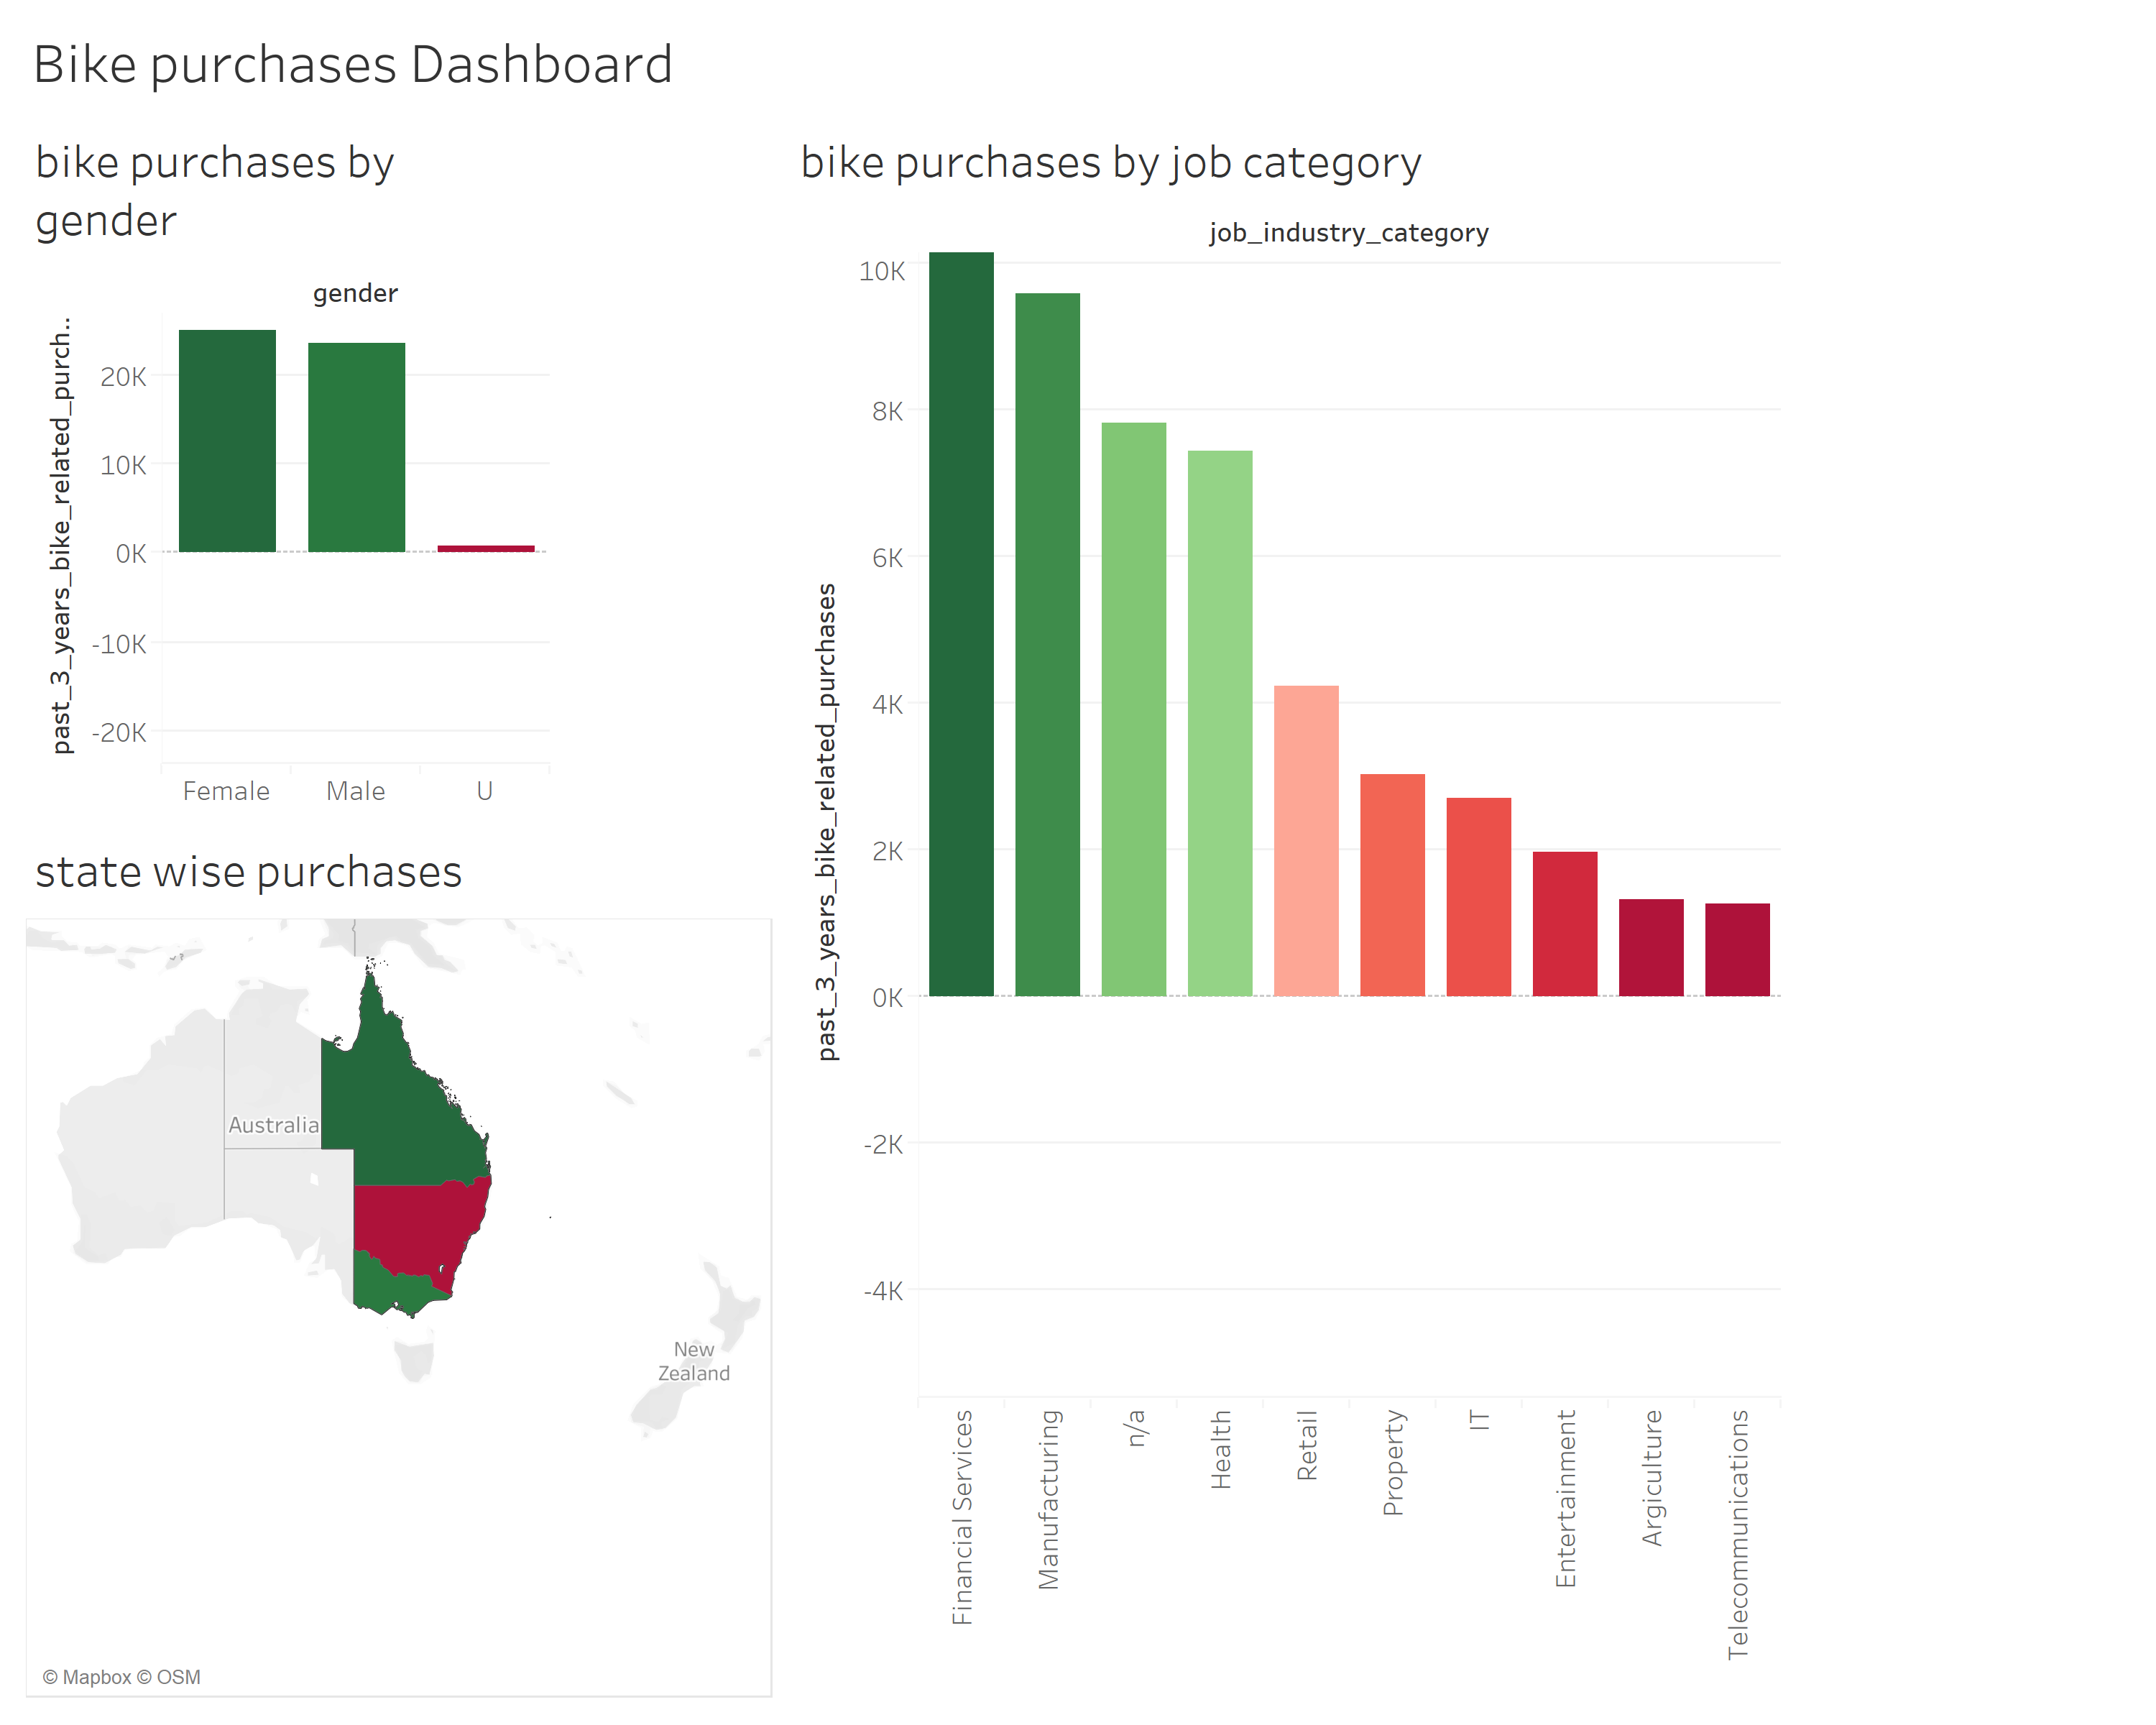

The dashboard page shown, as its layout file describes it:
{"tool":"tableau","page":{"name":"Bike purchases Dashboard ","canvas":[1000,800],"ordinal":0},"visuals":[{"type":"worksheet","box":[0,0,1000,800]},{"type":"worksheet","param":"vert","box":[8,8,984,784]},{"type":"worksheet","box":[8,8,984,42]},{"type":"worksheet","param":"vert","box":[8,50,984,742]},{"type":"worksheet","param":"horz","box":[8,50,984,742]},{"type":"worksheet","param":"horz","box":[8,50,984,742]},{"type":"worksheet","param":"horz","box":[8,50,984,742]},{"type":"worksheet","param":"horz","box":[8,50,984,742]},{"type":"worksheet","box":[8,50,984,742]},{"type":"worksheet","title":"bike purchase by gender","mark":"Automatic","rows":["past_3_years_bike_related_purchases"],"cols":["gender"],"box":[8,50,355,329.3]},{"type":"worksheet","title":"bike purchases by job category","mark":"Automatic","rows":["past_3_years_bike_related_purchases"],"cols":["job_industry_category"],"box":[363,50,629,742]},{"type":"worksheet","title":"state wise purchases","mark":"Automatic","box":[8,379.3,355,412.7]}]}

Visuals, with their boxes in screenshot pixels (x1, y1, x2, y2), scaled from the page's 1000x800 canvas onto the 2156x1725 screenshot:
worksheet: (left=0, top=0, right=2155, bottom=1724)
worksheet: (left=17, top=17, right=2139, bottom=1708)
worksheet: (left=17, top=17, right=2139, bottom=108)
worksheet: (left=17, top=108, right=2139, bottom=1708)
worksheet: (left=17, top=108, right=2139, bottom=1708)
worksheet: (left=17, top=108, right=2139, bottom=1708)
worksheet: (left=17, top=108, right=2139, bottom=1708)
worksheet: (left=17, top=108, right=2139, bottom=1708)
worksheet: (left=17, top=108, right=2139, bottom=1708)
"bike purchase by gender" worksheet: (left=17, top=108, right=783, bottom=818)
"bike purchases by job category" worksheet: (left=783, top=108, right=2139, bottom=1708)
"state wise purchases" worksheet: (left=17, top=818, right=783, bottom=1708)
